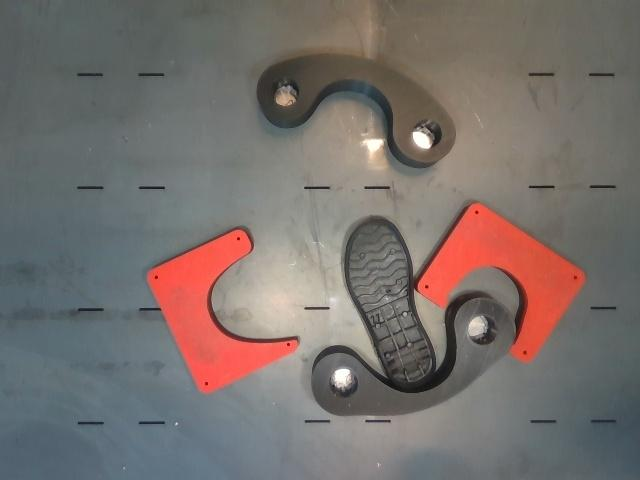shoes: (347, 219, 436, 389)
